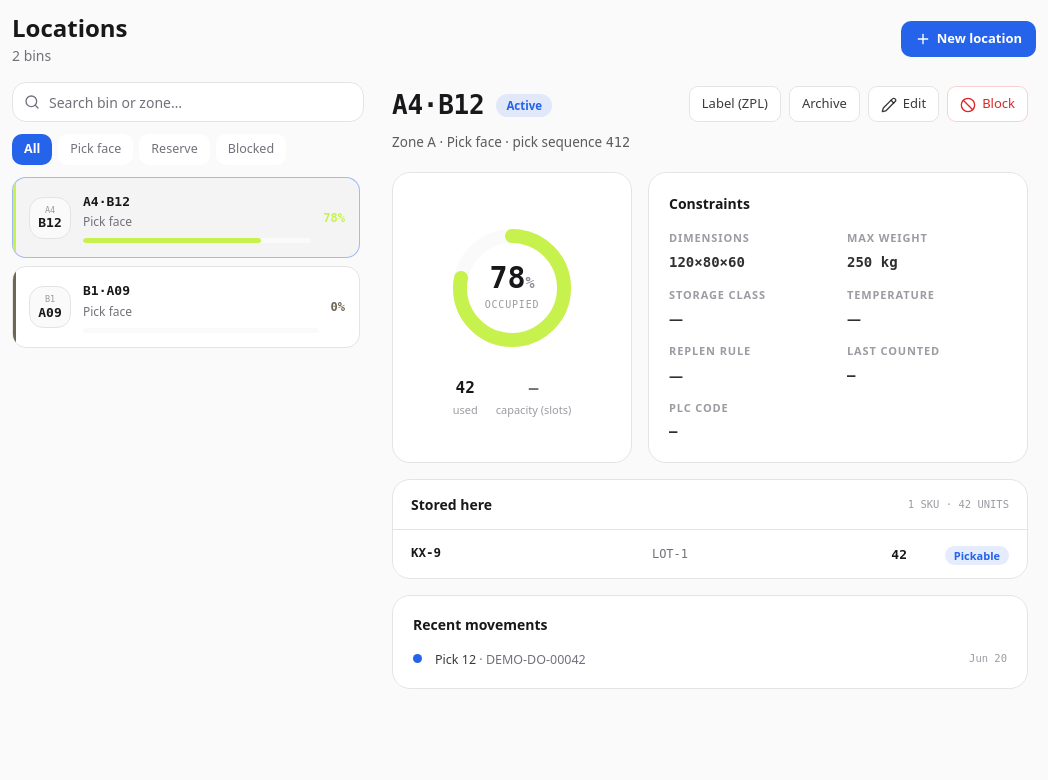
Scenario: LocationsPage — Task 10 edit mode › Cancel from the edit form returns to the view detail
Click the button with test id "location-edit-btn" at (904, 104), box [868,86,939,122]
(page scrolled)
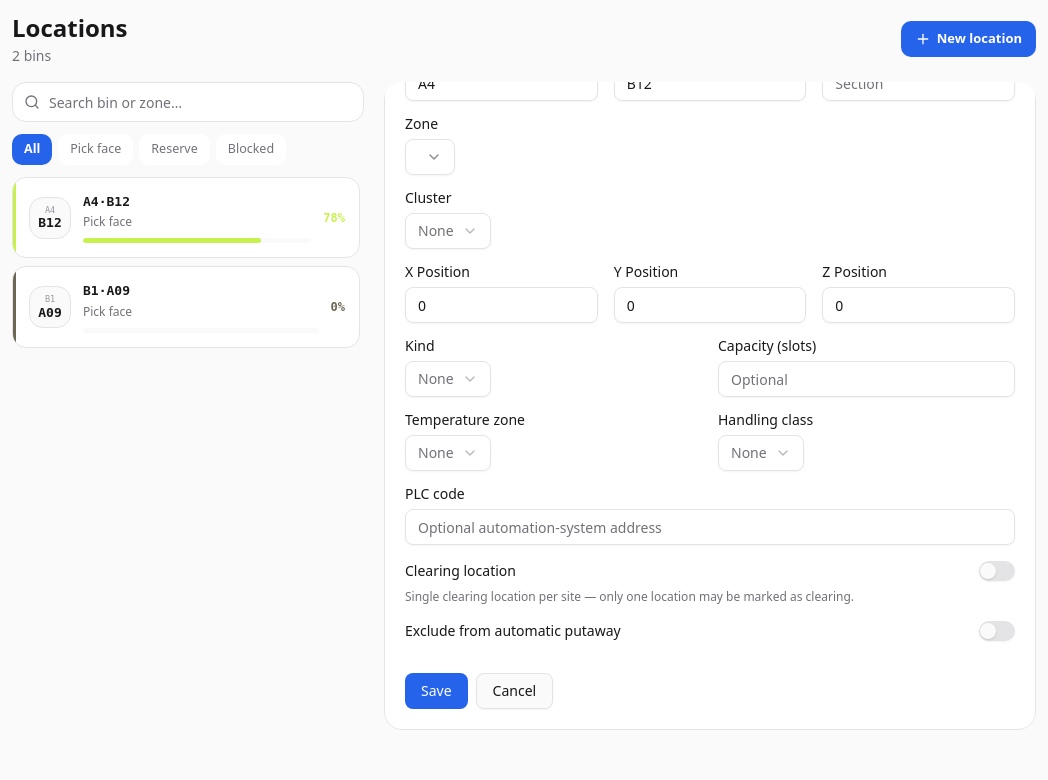
Now the button "Cancel" is shown
Click the button "Cancel" at (514, 691), box [476,673,553,709]
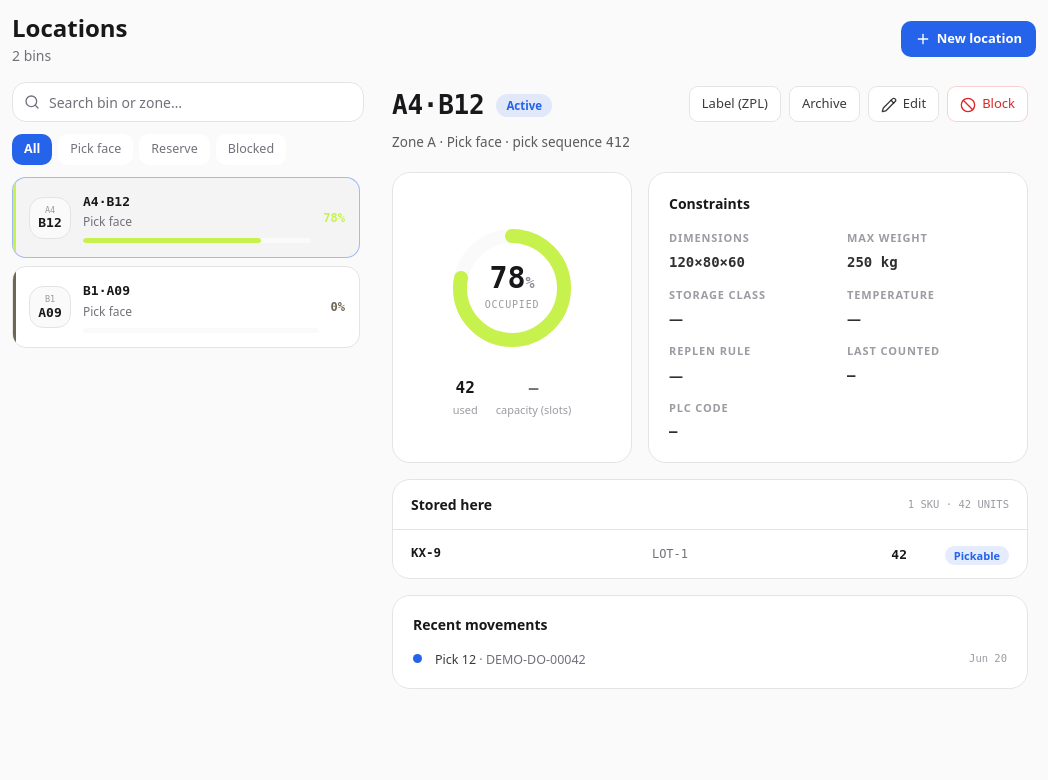
Now the heading "Constraints" is shown, box [669,194,750,213]
Now the button "Save" is gone
